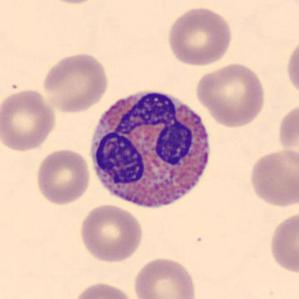Eosinophil: (83, 80, 218, 218)
RBC: (194, 61, 268, 129), (40, 50, 110, 114), (164, 4, 234, 67), (77, 202, 145, 264), (0, 87, 58, 154), (33, 147, 92, 206), (247, 147, 298, 209), (132, 255, 200, 299), (268, 210, 298, 275), (275, 103, 299, 170), (70, 280, 136, 299), (284, 36, 299, 102), (37, 0, 104, 6), (279, 0, 299, 13)
